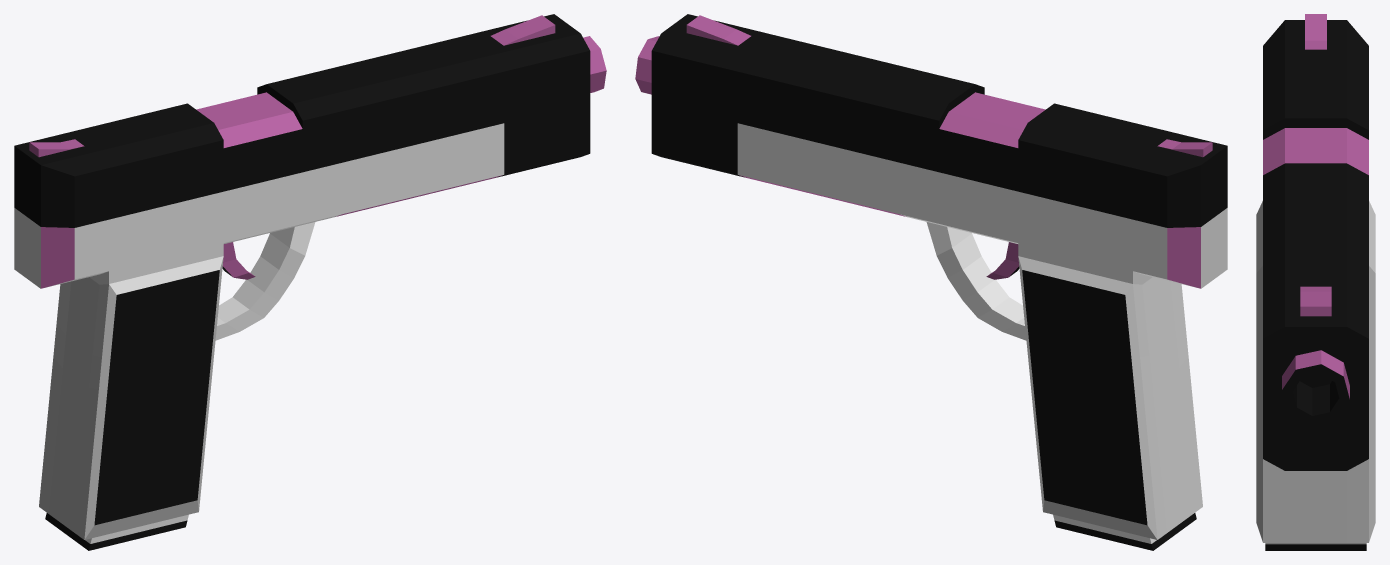
Rendered from EnemyPistol.fbx.
The picture shows the model from 3 angles, left to right: view 1: azimuth 30°, elevation 25°; view 2: azimuth 150°, elevation 25°; view 3: azimuth 270°, elevation 25°; orthographic projection. The views are drawn at different scales.
Visible parts, largest first — view 1: Pistol; view 2: Pistol; view 3: Pistol.
Boxes of the visible parts, bbox=[...] form: Pistol: bbox=[14, 14, 606, 550]; Pistol: bbox=[635, 14, 1227, 550]; Pistol: bbox=[1256, 14, 1375, 550].
Size of the model in its own units: 33.62 by 22.61 by 5.28.
